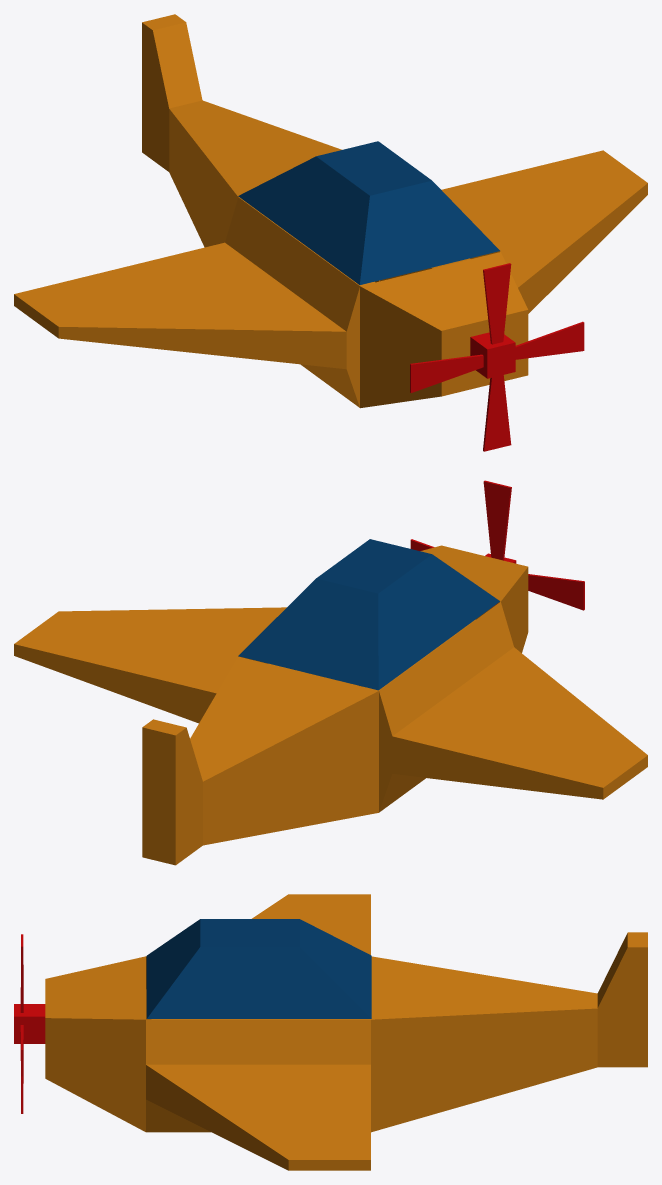
3 renders of one model, top to bottom at view 1: azimuth 30°, elevation 25°; view 2: azimuth 150°, elevation 25°; view 3: azimuth 270°, elevation 25°, orthographic. The views are drawn at different scales.
Visible parts, largest first — view 1: Airplane, Cabin, Propeller; view 2: Airplane, Cabin, Propeller; view 3: Airplane, Cabin, Propeller.
Boxes of the visible parts, box(x1,y1,x2,y2) form: Airplane: box(14, 14, 647, 408); Cabin: box(238, 141, 499, 284); Propeller: box(410, 263, 584, 451); Airplane: box(14, 545, 647, 865); Cabin: box(238, 539, 499, 690); Propeller: box(410, 480, 584, 610); Airplane: box(45, 894, 647, 1170); Cabin: box(146, 919, 371, 1018); Propeller: box(14, 934, 45, 1113).
Size of the model in its own units: 1.73 by 1.74 by 0.5295.
